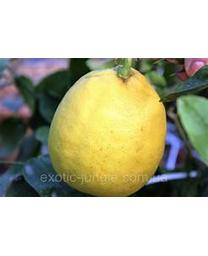lemon: (49, 67, 167, 196)
